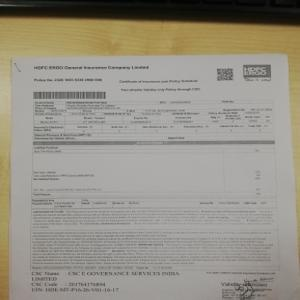image: (242, 62, 272, 79)
table: (32, 146, 277, 209), (31, 99, 275, 141)
text: (31, 231, 279, 270), (31, 210, 276, 229), (31, 270, 183, 297), (31, 62, 151, 73), (115, 76, 199, 86), (32, 76, 107, 86)
